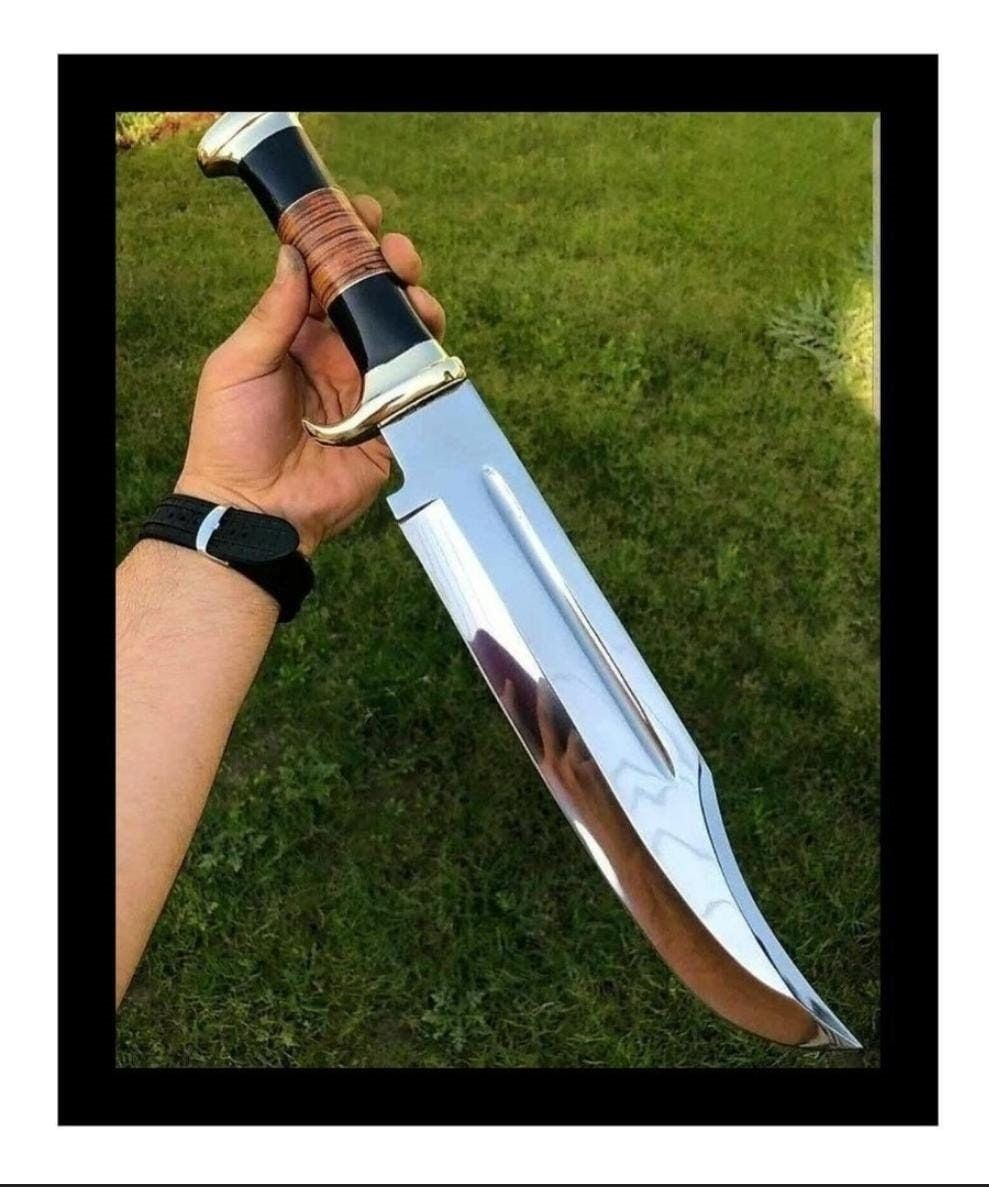knife: (186, 111, 876, 1068)
